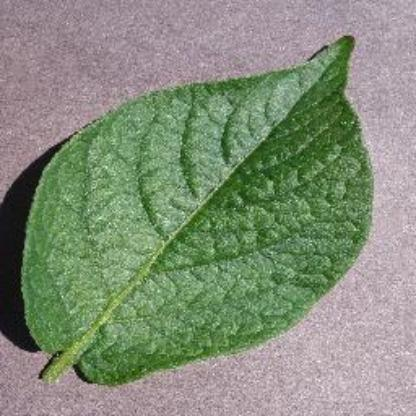Healthy-plant: (19, 22, 380, 388)
